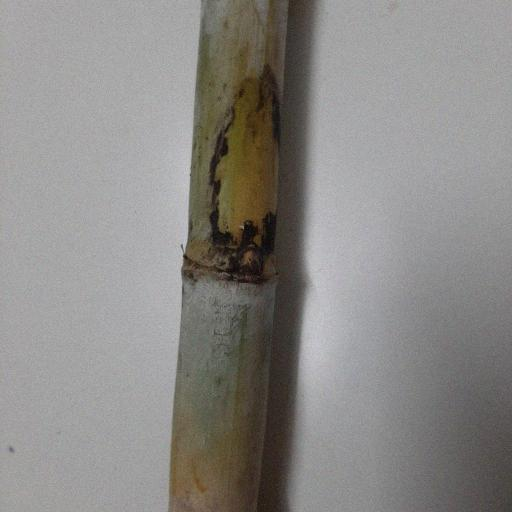Bud: (238, 244, 263, 277)
